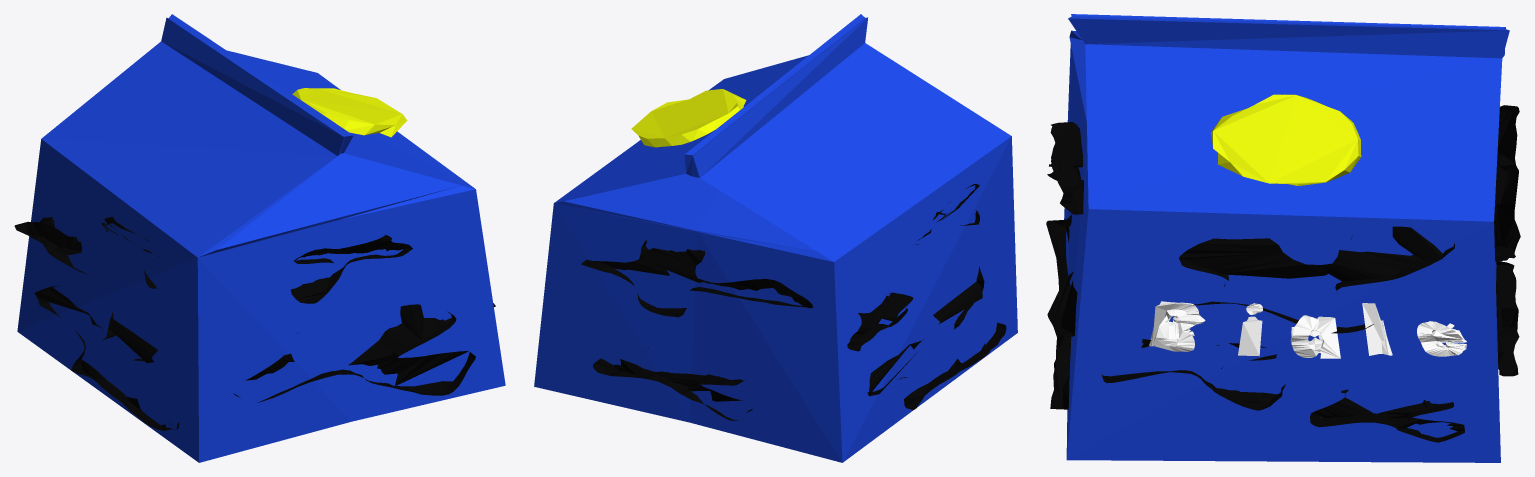
Rendered from crush_high_1.obj.
3 renders of one model, left to right at view 1: azimuth 30°, elevation 25°; view 2: azimuth 150°, elevation 25°; view 3: azimuth 270°, elevation 25°, orthographic. The views are drawn at different scales.
Visible parts, largest first — view 1: model; view 2: model; view 3: model.
Boxes of the visible parts, left/top/right/bottom form: model: left=14, top=14, right=505, bottom=462; model: left=534, top=14, right=1017, bottom=462; model: left=1046, top=14, right=1520, bottom=462.
Bounding box in the file's own units: 0.0862 × 0.07 × 0.0855.
1 material, 1 textured.
